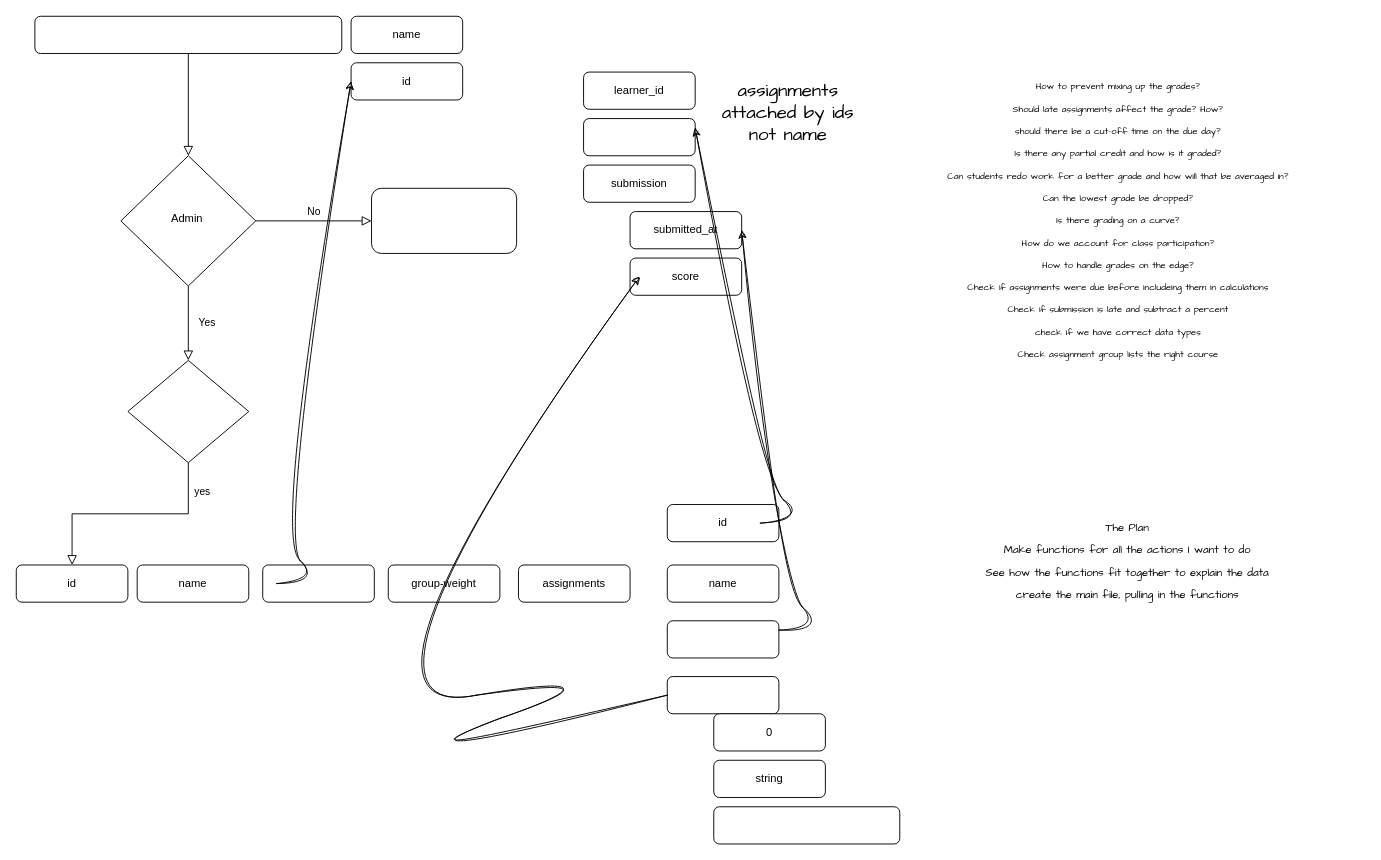
Image size: 1381x860. Some labels were removed from this diagram. The shapes that lost their labels are listed below. From the top down, each one's box as (x1, y1, x2, y2) in pixels, then its label:
(34, 15, 342, 53): CourseInfo
(583, 118, 695, 156): assignment_id
(371, 187, 517, 253): LearnerSubmissions
(127, 359, 249, 463): AssignmentGroup
(262, 564, 374, 602): course_id
(666, 620, 779, 658): due_at
(666, 676, 779, 714): points_possible
(713, 806, 900, 844): type in grade so too big/small
